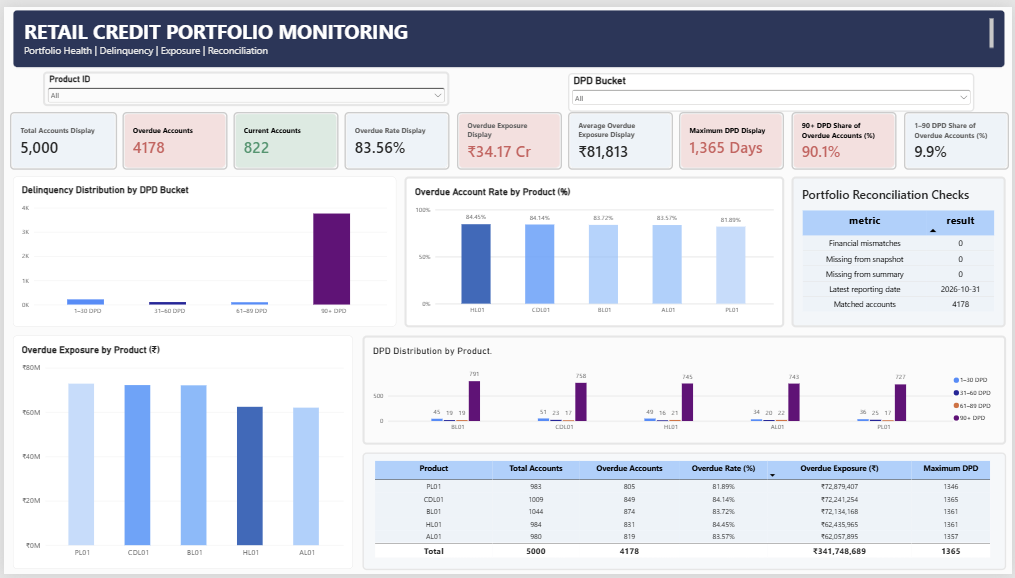

Layout of this report page (visuals, bound fields, positions):
{"tool":"powerbi","page":{"name":"Portfolio Overview","canvas":[1920,1080],"ordinal":0},"visuals":[{"type":"cardVisual","fields":{"Data":["dpd_bucket_distribution.Total Accounts Display"]},"box":[11.4,200,204,110],"z":0},{"type":"cardVisual","title":"Overdue Accounts","fields":{"Data":["Min(portfolio_kpi_summary.Value)"]},"box":[226.4,200,200,110],"z":1000},{"type":"cardVisual","title":"Current Accounts","fields":{"Data":["Min(portfolio_kpi_summary.Value)"]},"box":[435.7,200,200,110],"z":2000},{"type":"cardVisual","title":"Overdue Account Rate","fields":{"Data":["dpd_bucket_distribution.Overdue Rate Display"]},"box":[648.6,200,200,110],"z":3000},{"type":"cardVisual","title":"Total Overdue Exposure","fields":{"Data":["dpd_bucket_distribution.Overdue Exposure Display"]},"box":[862.1,200,200,110],"z":4000},{"type":"cardVisual","title":"Average Overdue Exposure","fields":{"Data":["dpd_bucket_distribution.Average Overdue Exposure Display"]},"box":[1073.6,200,200,110],"z":5000},{"type":"cardVisual","title":"Maximum DPD","fields":{"Data":["dpd_bucket_distribution.Maximum DPD Display"]},"box":[1286.4,200,200,110],"z":6000},{"type":"clusteredColumnChart","title":"Delinquency Distribution by DPD Bucket","fields":{"Category":["product_dpd_distribution.DPD Bucket"],"Y":["Sum(product_dpd_distribution.Account Count)"]},"box":[17.5,323.8,730,286.2],"z":7000},{"type":"clusteredColumnChart","title":"Overdue Account Rate by Product (%)","fields":{"Category":["product_wise_risk_segmentation.product_id"],"Y":["Avg(product_wise_risk_segmentation.overdue_account_rate_pct)"]},"box":[764.1,323.1,723.1,287.2],"z":8000},{"type":"clusteredColumnChart","title":"Overdue Exposure by Product (₹)","fields":{"Category":["product_wise_risk_segmentation.product_id"],"Y":["Sum(product_wise_risk_segmentation.total_overdue_exposure)"]},"box":[18.4,626.3,647.4,444.7],"z":9000},{"type":"tableEx","title":"Portfolio Reconciliation Checks","fields":{"Values":["portfolio_reconciliation.metric","portfolio_reconciliation.result"]},"box":[1500,323.1,407.7,287.2],"z":10000},{"type":"tableEx","fields":{"Values":["product_wise_risk_segmentation.product_id","Sum(product_wise_risk_segmentation.total_accounts)","Sum(product_wise_risk_segmentation.overdue_accounts)","product_wise_risk_segmentation.overdue_account_rate_pct","Sum(product_wise_risk_segmentation.total_overdue_exposure)","Max(product_wise_risk_segmentation.maximum_dpd)"]},"box":[681.6,847.4,1226.3,223.7],"z":11000},{"type":"textbox","box":[17.9,5.4,1889.3,109],"z":12000},{"type":"slicer","fields":{"Values":["product_wise_risk_segmentation.product_id"]},"box":[74.3,122.9,774.3,65.7],"z":13000},{"type":"slicer","fields":{"Values":["product_dpd_distribution.DPD Bucket"]},"box":[1074.3,125.7,774.3,74.3],"z":14000},{"type":"cardVisual","fields":{"Data":["dpd_bucket_distribution.90+ DPD Account %"]},"box":[1500,200,200,110],"z":15000},{"type":"cardVisual","fields":{"Data":["product_dpd_distribution.Early Delinquency Share %"]},"box":[1713.6,200,200,110],"z":16000},{"type":"clusteredColumnChart","title":"DPD Distribution by Product.","fields":{"Category":["product_dpd_distribution.product_id"],"Series":["product_dpd_distribution.DPD Bucket"],"Y":["Sum(product_dpd_distribution.Account Count)"]},"box":[681.6,626.3,1226.3,207.9],"z":17000}]}

Visuals, with their boxes in screenshot pixels (x1, y1, x2, y2), scaled from the page's 1920x1080 canvas onto the 1015x578 screenshot:
cardVisual - dpd_bucket_distribution.Total Accounts Display: {"left": 6, "top": 107, "right": 114, "bottom": 166}
"Overdue Accounts" cardVisual: {"left": 120, "top": 107, "right": 225, "bottom": 166}
"Current Accounts" cardVisual: {"left": 230, "top": 107, "right": 336, "bottom": 166}
"Overdue Account Rate" cardVisual: {"left": 343, "top": 107, "right": 449, "bottom": 166}
"Total Overdue Exposure" cardVisual: {"left": 456, "top": 107, "right": 561, "bottom": 166}
"Average Overdue Exposure" cardVisual: {"left": 568, "top": 107, "right": 673, "bottom": 166}
"Maximum DPD" cardVisual: {"left": 680, "top": 107, "right": 786, "bottom": 166}
"Delinquency Distribution by DPD Bucket" clusteredColumnChart: {"left": 9, "top": 173, "right": 395, "bottom": 326}
"Overdue Account Rate by Product (%)" clusteredColumnChart: {"left": 404, "top": 173, "right": 786, "bottom": 327}
"Overdue Exposure by Product (₹)" clusteredColumnChart: {"left": 10, "top": 335, "right": 352, "bottom": 573}
"Portfolio Reconciliation Checks" tableEx: {"left": 793, "top": 173, "right": 1008, "bottom": 327}
tableEx - product_wise_risk_segmentation.product_id x Sum(product_wise_risk_segmentation.total_accounts): {"left": 360, "top": 454, "right": 1009, "bottom": 573}
textbox: {"left": 9, "top": 3, "right": 1008, "bottom": 61}
slicer - product_wise_risk_segmentation.product_id: {"left": 39, "top": 66, "right": 449, "bottom": 101}
slicer - product_dpd_distribution.DPD Bucket: {"left": 568, "top": 67, "right": 977, "bottom": 107}
cardVisual - dpd_bucket_distribution.90+ DPD Account %: {"left": 793, "top": 107, "right": 899, "bottom": 166}
cardVisual - product_dpd_distribution.Early Delinquency Share %: {"left": 906, "top": 107, "right": 1012, "bottom": 166}
"DPD Distribution by Product." clusteredColumnChart: {"left": 360, "top": 335, "right": 1009, "bottom": 446}
